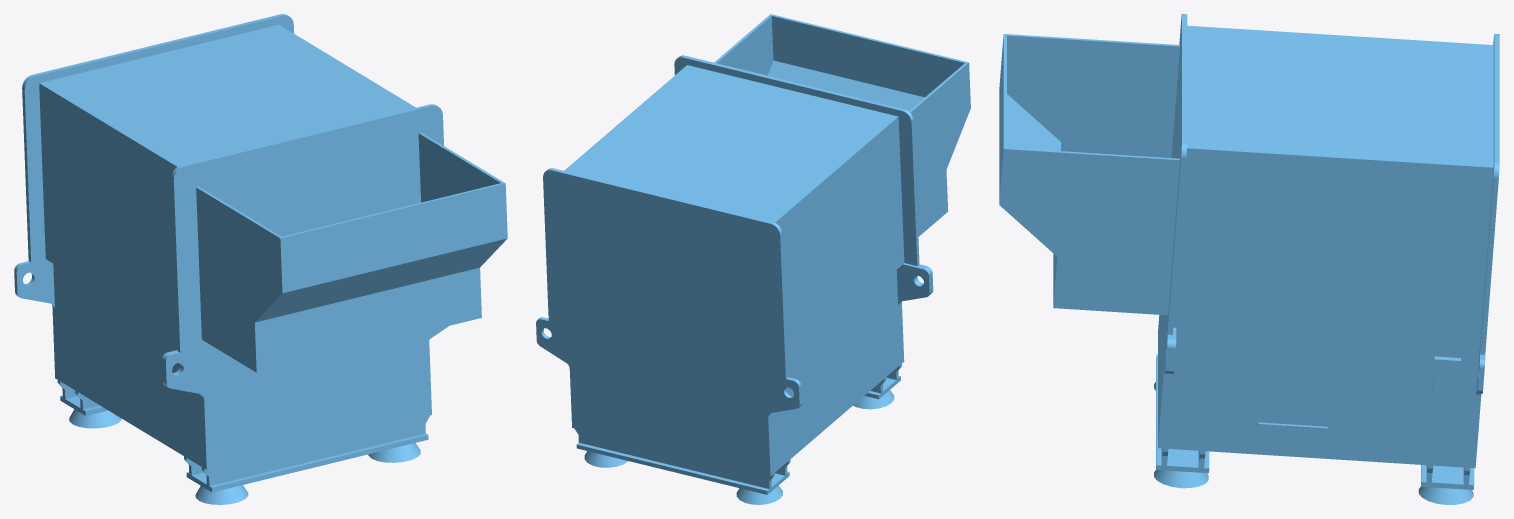
3 renders of one model, left to right at view 1: azimuth 30°, elevation 25°; view 2: azimuth 150°, elevation 25°; view 3: azimuth 270°, elevation 25°, orthographic. The views are drawn at different scales.
Visible parts, largest first — view 1: 0C6E641F3DC18749666DF3C59C03E7384C05AFCA|:|62A847F87F40_7ac6; view 2: 0C6E641F3DC18749666DF3C59C03E7384C05AFCA|:|62A847F87F40_7ac6; view 3: 0C6E641F3DC18749666DF3C59C03E7384C05AFCA|:|62A847F87F40_7ac6.
Boxes of the visible parts, left/top/right/bottom form: 0C6E641F3DC18749666DF3C59C03E7384C05AFCA|:|62A847F87F40_7ac6: left=14, top=14, right=507, bottom=504; 0C6E641F3DC18749666DF3C59C03E7384C05AFCA|:|62A847F87F40_7ac6: left=536, top=14, right=970, bottom=504; 0C6E641F3DC18749666DF3C59C03E7384C05AFCA|:|62A847F87F40_7ac6: left=999, top=14, right=1499, bottom=504.
Bounding box in the file's own units: 204 × 232 × 283.
